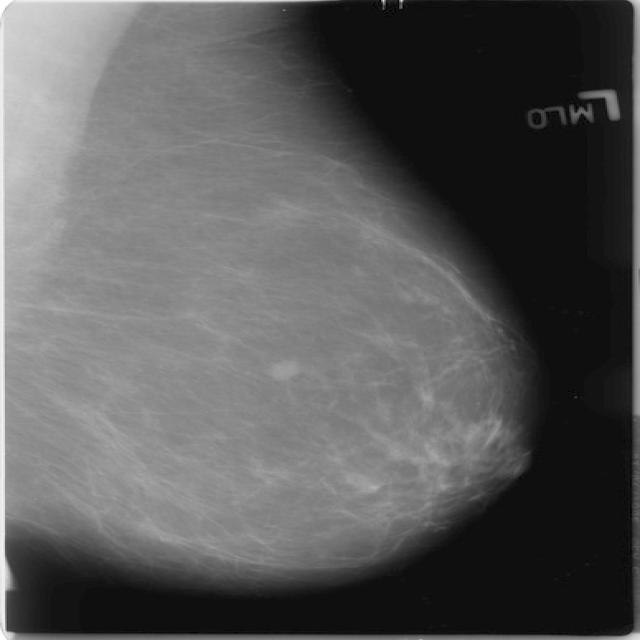tumour: (260, 358, 302, 381)
